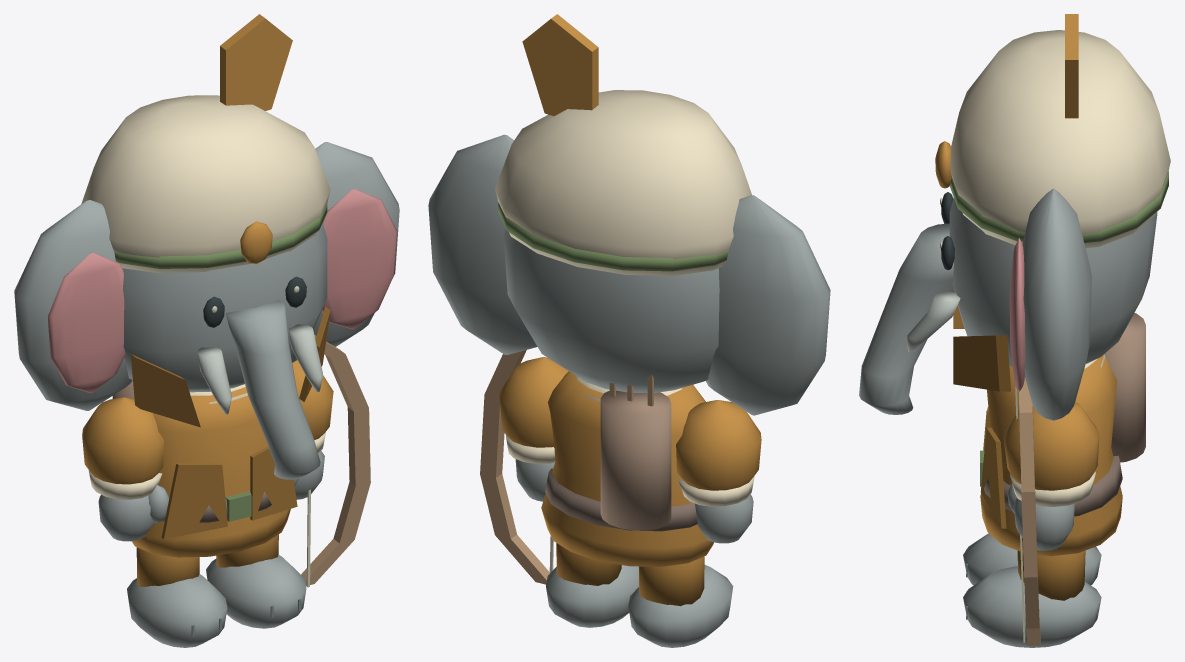
Rendered from archer.glb.
3 renders of one model, left to right at view 1: azimuth 30°, elevation 25°; view 2: azimuth 150°, elevation 25°; view 3: azimuth 270°, elevation 25°, orthographic. The views are drawn at different scales.
Visible parts, largest first — view 1: Layered cloth turban, Animal cheek head, Short folded tunic, Elephant broad ear, Curved elephant trunk, Elephant ear lining, Elephant ear lining.001, Puff sleeve, Soft animal paw, Curved bow, Soft animal paw.001, Turban fan (+17 smaller); view 2: Layered cloth turban, Animal cheek head, Elephant broad ear, Elephant broad ear.001, Short folded tunic, Quiver leather, Puff sleeve, Turban fan, Curved bow, Soft animal paw, Puff sleeve.001, Soft animal paw.001 (+8 smaller); view 3: Layered cloth turban, Elephant broad ear.001, Animal cheek head, Curved elephant trunk, Short folded tunic, Soft animal paw.001, Puff sleeve.001, Quiver leather, Curved bow, Hood cheek cowl R, Soft animal paw, Stubby trouser.001 (+9 smaller).
Part boxes in pixels (left/top/right/bottom): Layered cloth turban: left=81, top=95, right=330, bottom=273; Animal cheek head: left=122, top=223, right=327, bottom=392; Short folded tunic: left=131, top=387, right=290, bottom=557; Elephant broad ear: left=14, top=200, right=132, bottom=410; Curved elephant trunk: left=225, top=300, right=320, bottom=479; Elephant ear lining: left=47, top=253, right=125, bottom=393; Elephant ear lining.001: left=322, top=189, right=397, bottom=329; Puff sleeve: left=82, top=397, right=163, bottom=484; Soft animal paw: left=127, top=574, right=227, bottom=647; Curved bow: left=301, top=334, right=370, bottom=585; Soft animal paw.001: left=206, top=554, right=306, bottom=628; Turban fan: left=220, top=14, right=292, bottom=110; Layered cloth turban: left=495, top=90, right=751, bottom=275; Animal cheek head: left=503, top=228, right=719, bottom=393; Elephant broad ear: left=706, top=195, right=830, bottom=415; Elephant broad ear.001: left=428, top=134, right=537, bottom=354; Short folded tunic: left=541, top=371, right=713, bottom=566; Quiver leather: left=600, top=390, right=671, bottom=530; Puff sleeve: left=676, top=400, right=761, bottom=490; Turban fan: left=522, top=14, right=598, bottom=116; Curved bow: left=480, top=350, right=549, bottom=584; Soft animal paw: left=628, top=565, right=733, bottom=647; Puff sleeve.001: left=499, top=357, right=568, bottom=447; Soft animal paw.001: left=546, top=565, right=638, bottom=627; Layered cloth turban: left=950, top=30, right=1170, bottom=248; Elephant broad ear.001: left=1022, top=188, right=1091, bottom=420; Animal cheek head: left=949, top=197, right=1157, bottom=366; Curved elephant trunk: left=859, top=223, right=953, bottom=414; Short folded tunic: left=980, top=354, right=1122, bottom=556; Soft animal paw.001: left=963, top=566, right=1101, bottom=647; Puff sleeve.001: left=1003, top=402, right=1099, bottom=490; Quiver leather: left=1104, top=313, right=1145, bottom=462; Curved bow: left=1019, top=377, right=1040, bottom=645; Hood cheek cowl R: left=953, top=335, right=1010, bottom=391; Soft animal paw: left=963, top=533, right=1101, bottom=585; Stubby trouser.001: left=1017, top=550, right=1085, bottom=600.
Bounding box in the file's own units: 1.26 × 1.84 × 0.81.
